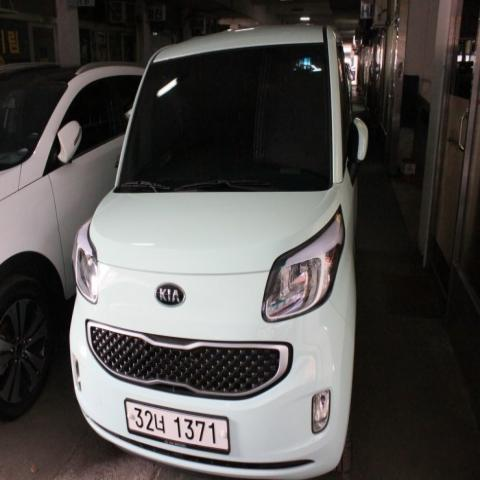LP: (123, 397, 236, 462)
